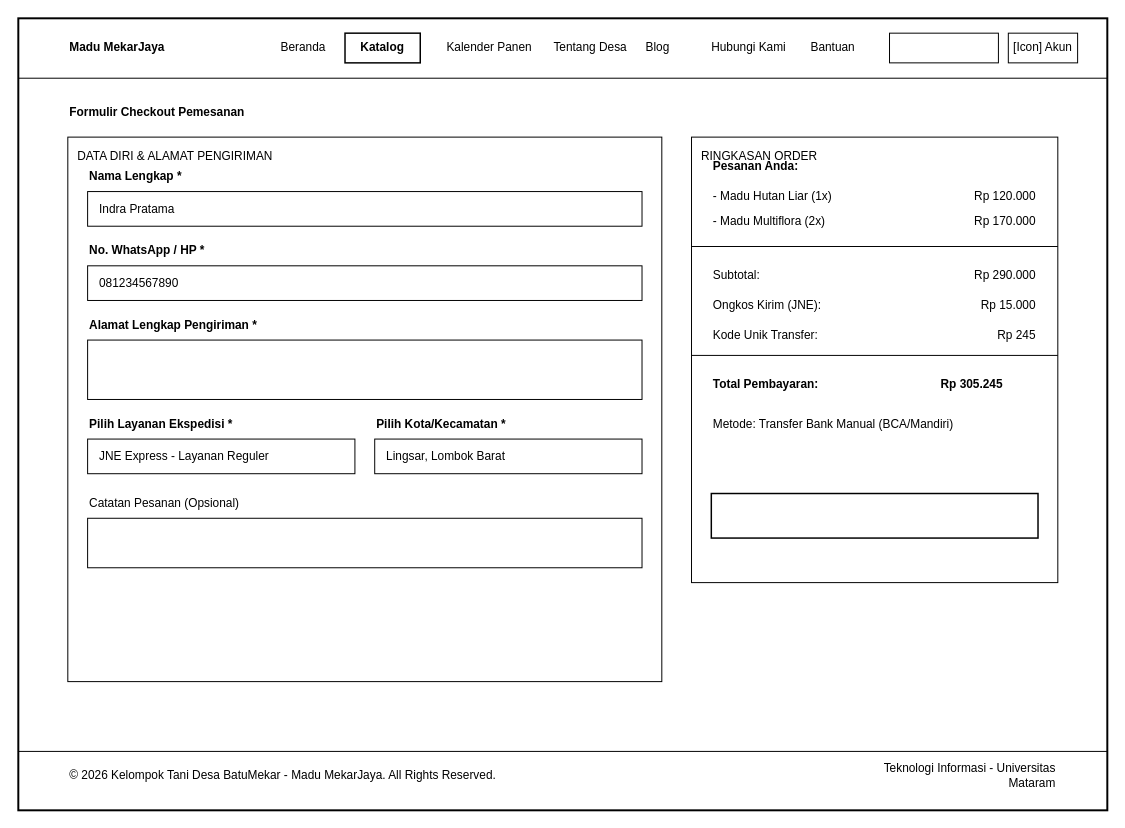
This 1125x828 diagram has some shape labels left out. The shapes that lost their labels are listed below. From the top down, each one's centre as x and y in pixels, then its label:
[943,47]: [Icon] Keranjang (2)
[364,369]: Jl. Raya Narmada, Gg. Damai No. 12, Lombok Barat
[874,515]: Buat Pesanan & Bayar
[364,542]: Mohon packing bubble wrap tebal.
